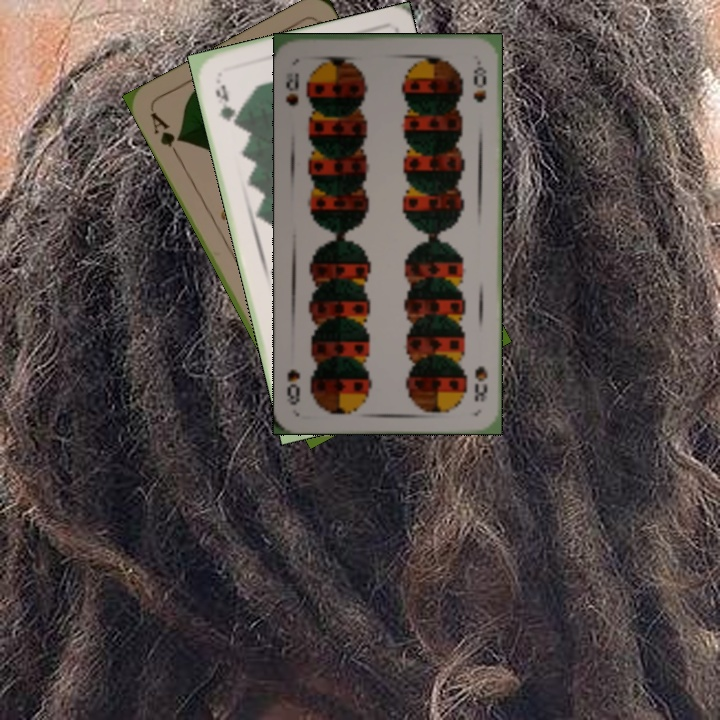G9: (211, 80, 239, 128)
GA: (146, 108, 185, 161)
S8: (470, 362, 490, 405), (281, 69, 301, 109)
